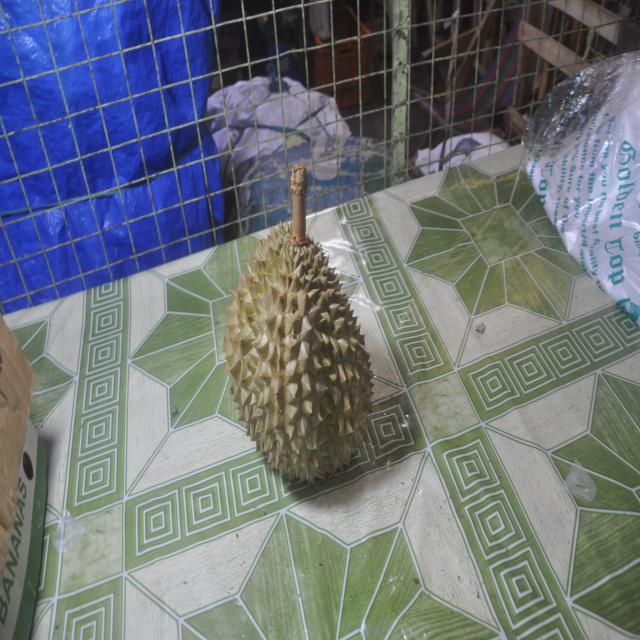mature: (224, 222, 373, 483)
